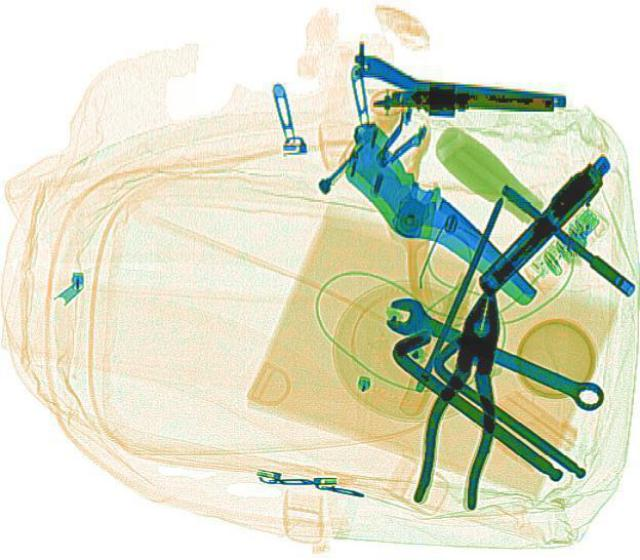Gun: (462, 148, 620, 296), (350, 51, 564, 116)
Pliers: (409, 283, 519, 512)
Wrench: (374, 288, 614, 414)
